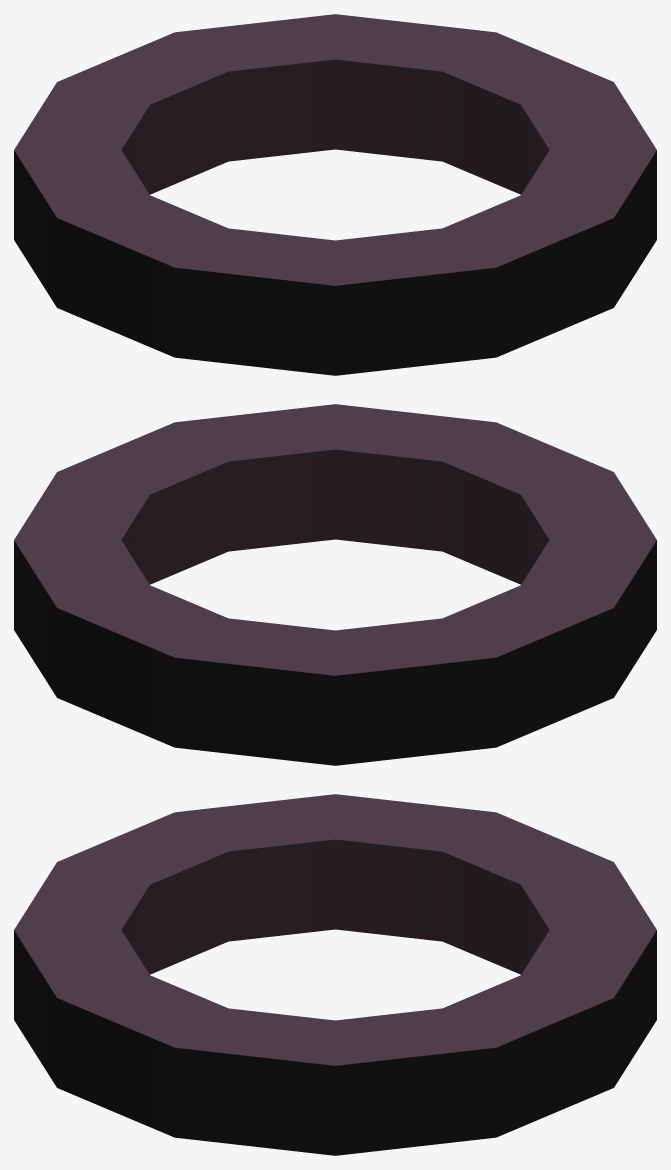
The model's file is Olive_Slice_Oilives_0.glb.
3 renders of one model, top to bottom at view 1: azimuth 30°, elevation 25°; view 2: azimuth 150°, elevation 25°; view 3: azimuth 270°, elevation 25°, orthographic.
Parts seen in each view (by area): view 1: Olive_Slice_Oilives_0; view 2: Olive_Slice_Oilives_0; view 3: Olive_Slice_Oilives_0.
Boxes of the visible parts, bbox=[...] form: Olive_Slice_Oilives_0: bbox=[14, 14, 656, 375]; Olive_Slice_Oilives_0: bbox=[14, 404, 656, 765]; Olive_Slice_Oilives_0: bbox=[14, 794, 656, 1155].
Size of the model in its own units: 0.0648 by 0.01 by 0.0648.
Materials: 1 (1 with a texture image).
